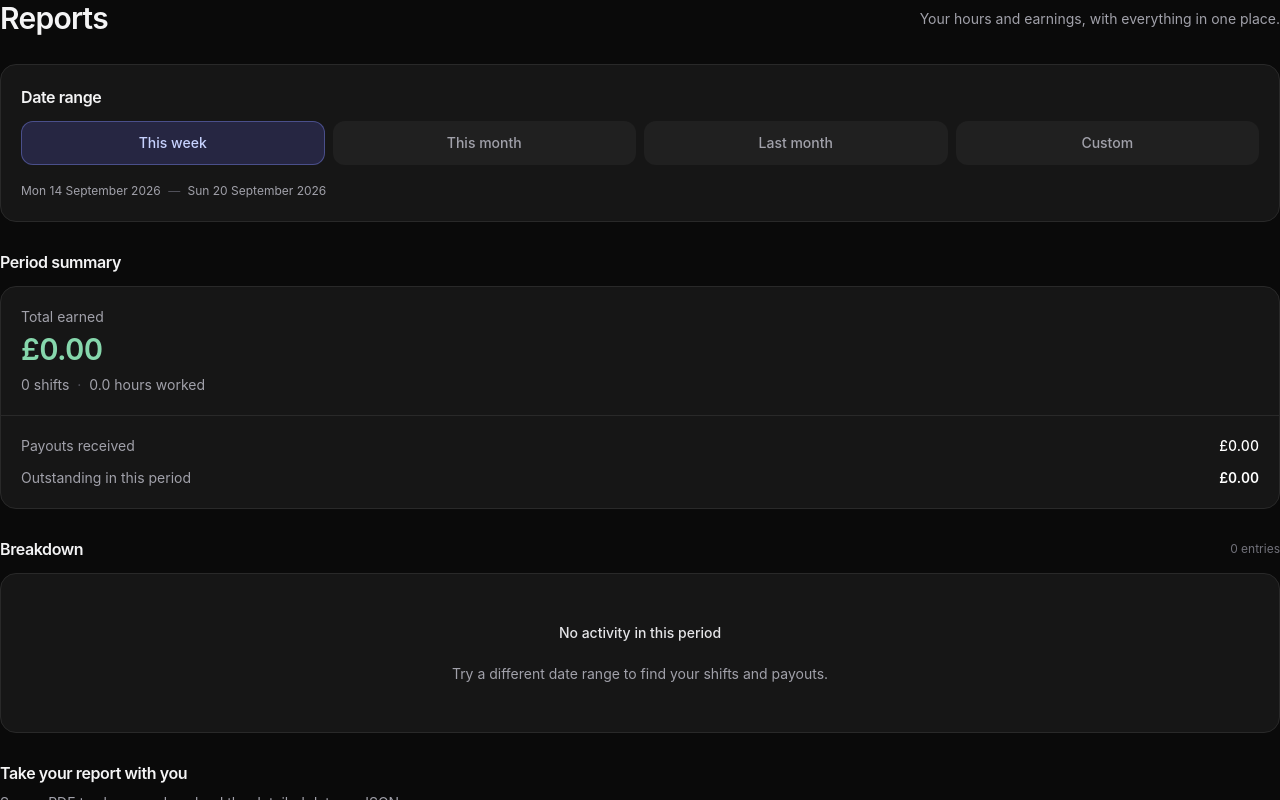
Test case: report date range › blocks exports until a reversed date range is corrected
The width and height of the screenshot is (1280, 800).
Click the button "Custom" at (1107, 143), box [956,121,1259,165]
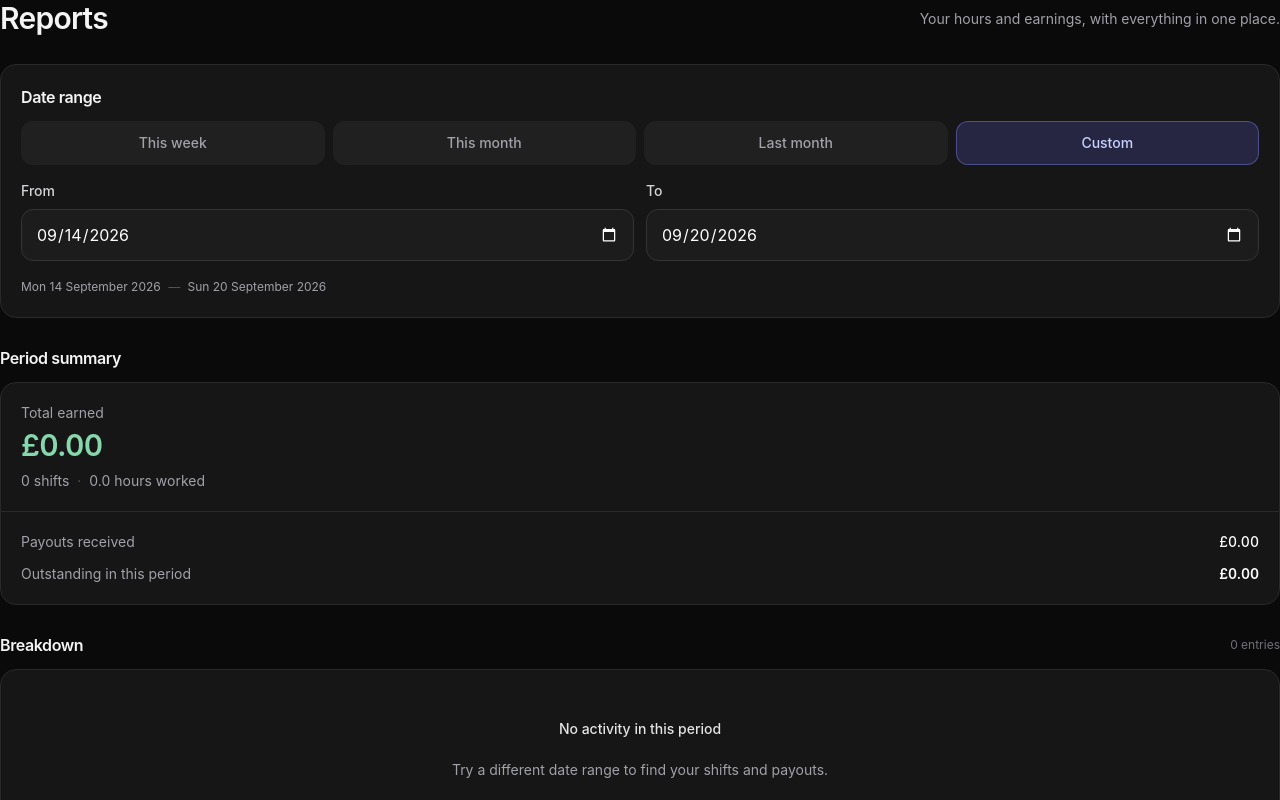
Type "2026-09-30" into the date field labelled "From" at (328, 235), box [21,209,634,261]
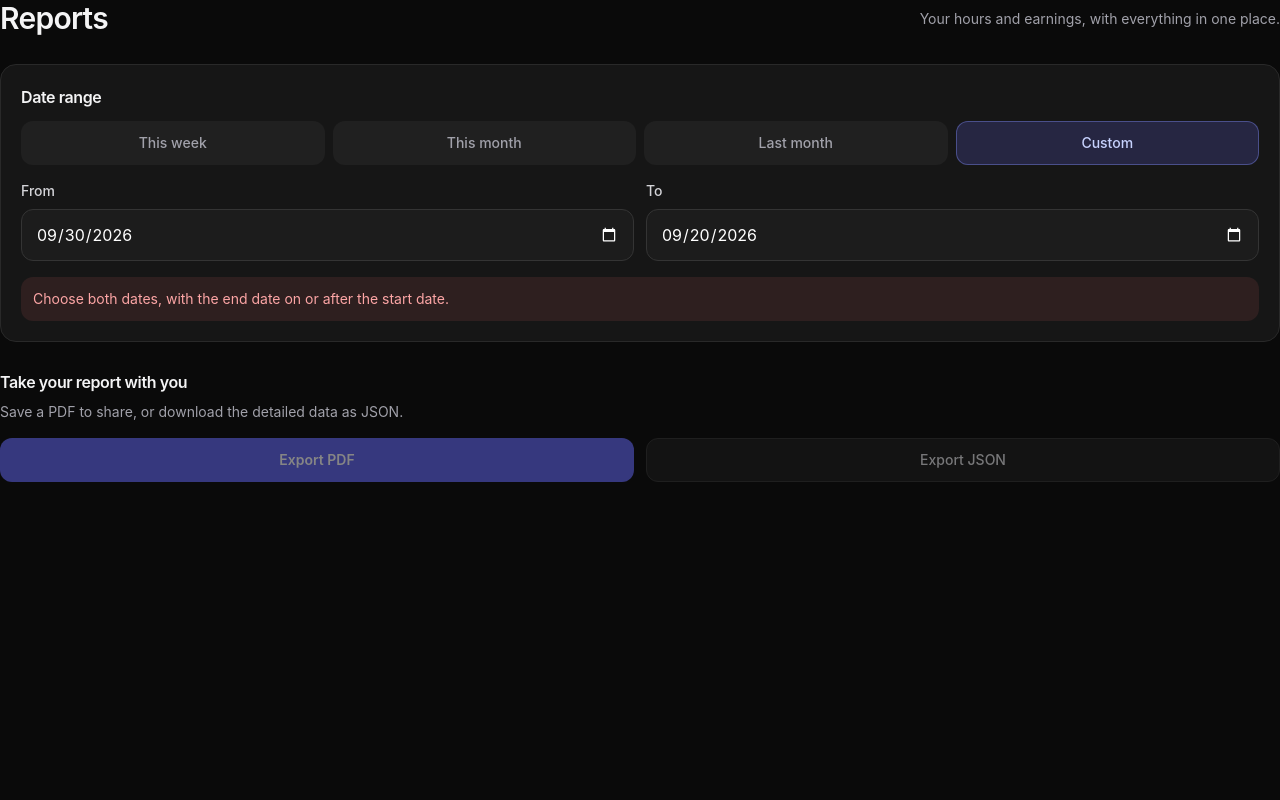
Type "2026-09-01" into the date field labelled "To" at (952, 235), box [646,209,1259,261]
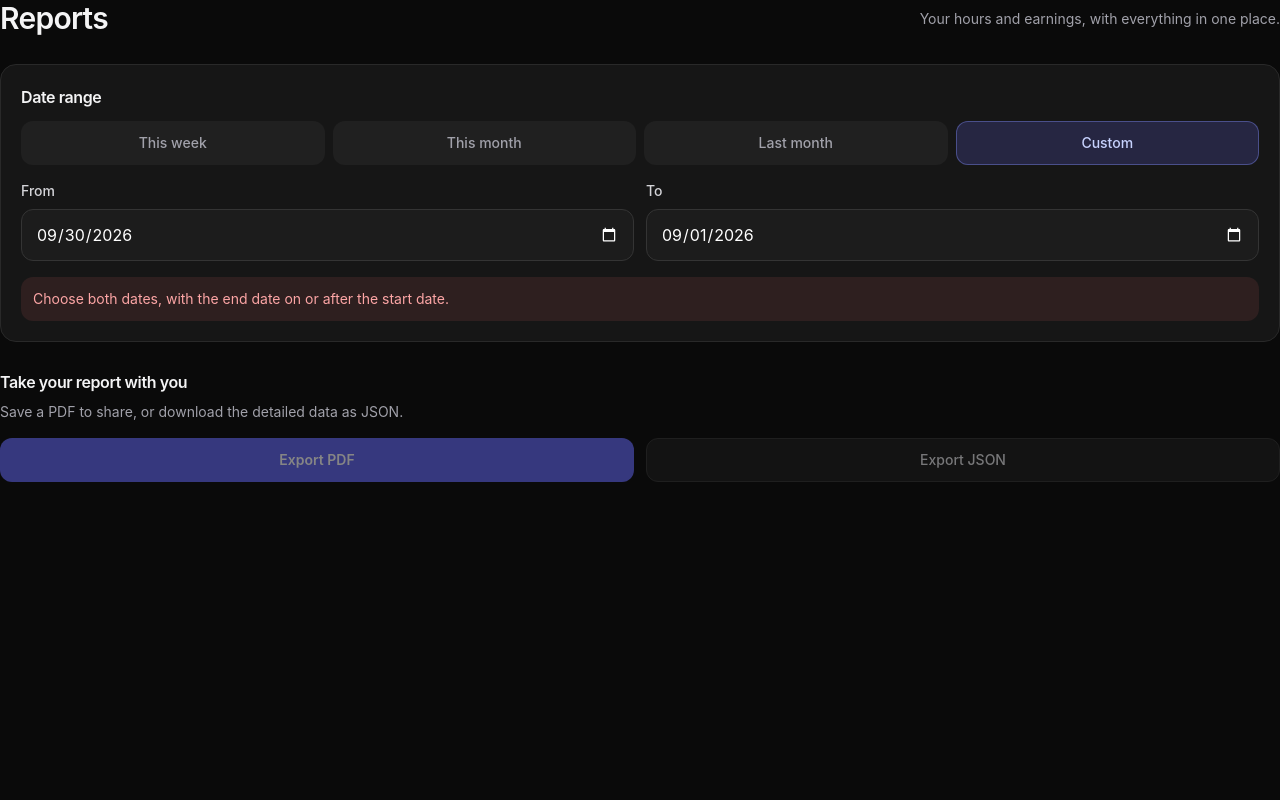
Result: the message "Choose both dates, with the end date on or after the start date." is shown at [21,277,1259,321]
Result: the button "Export PDF" is disabled at [0,438,634,482]
Result: the button "Export JSON" is disabled at [646,438,1279,482]
Type "2026-09-30" into the date field labelled "To" at (952, 235), box [646,209,1259,261]
(page scrolled)
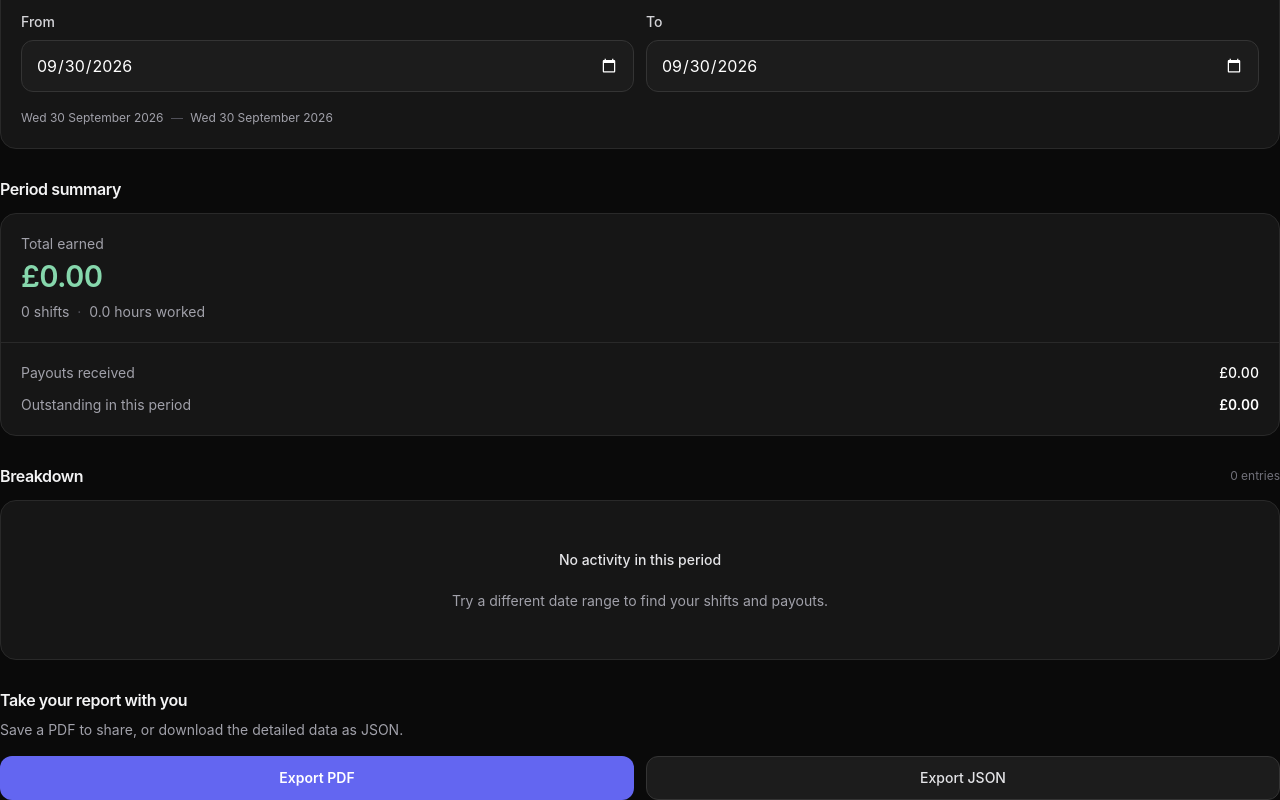
Result: the button "Export PDF" is enabled at [0,756,634,799]
